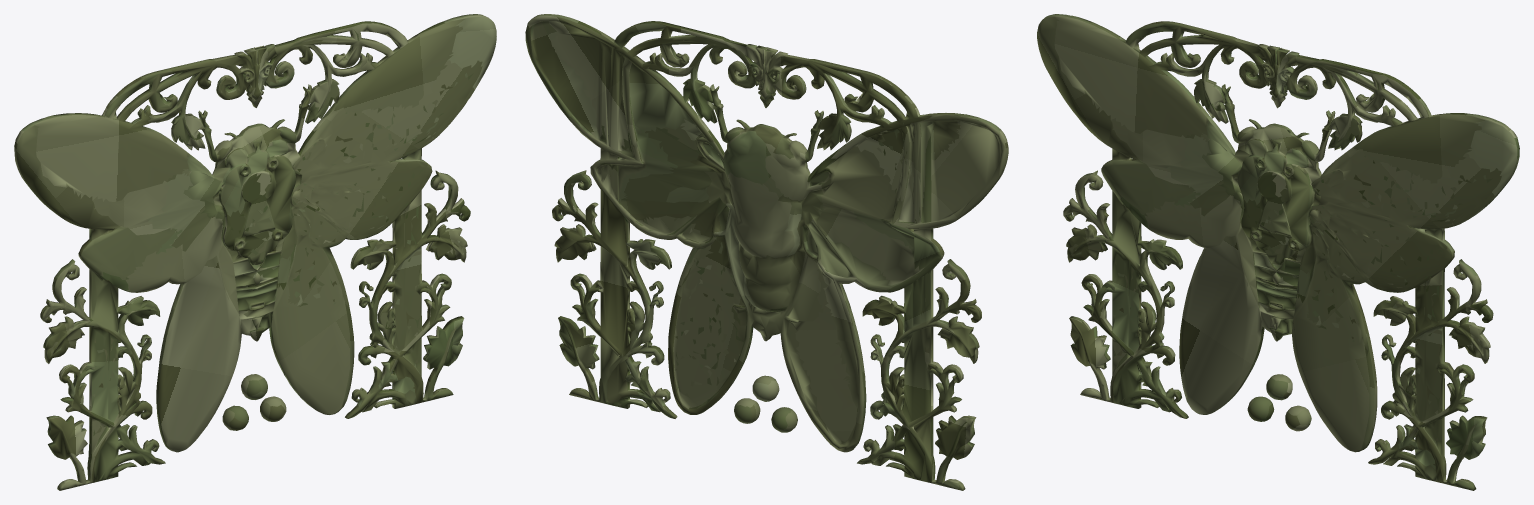
The model's file is cicada_geo.glb.
3 renders of one model, left to right at view 1: azimuth 30°, elevation 25°; view 2: azimuth 150°, elevation 25°; view 3: azimuth 330°, elevation 25°, orthographic.
Parts seen in each view (by area): view 1: material; view 2: material; view 3: material.
Part boxes in pixels (x1,y1,x2,y2): material: (14, 14, 496, 490); material: (525, 14, 1008, 490); material: (1037, 14, 1519, 490).
Bounding box in the file's own units: 1.01 × 0.79 × 0.049.
Materials: 1 (1 with a texture image).
